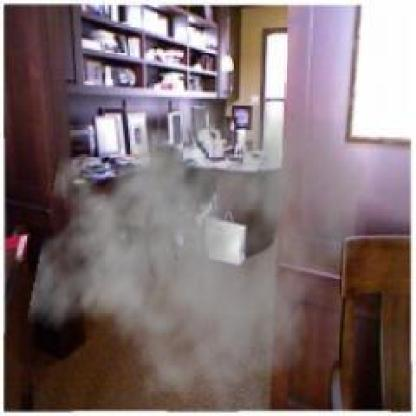Smoke: (25, 64, 372, 414)
